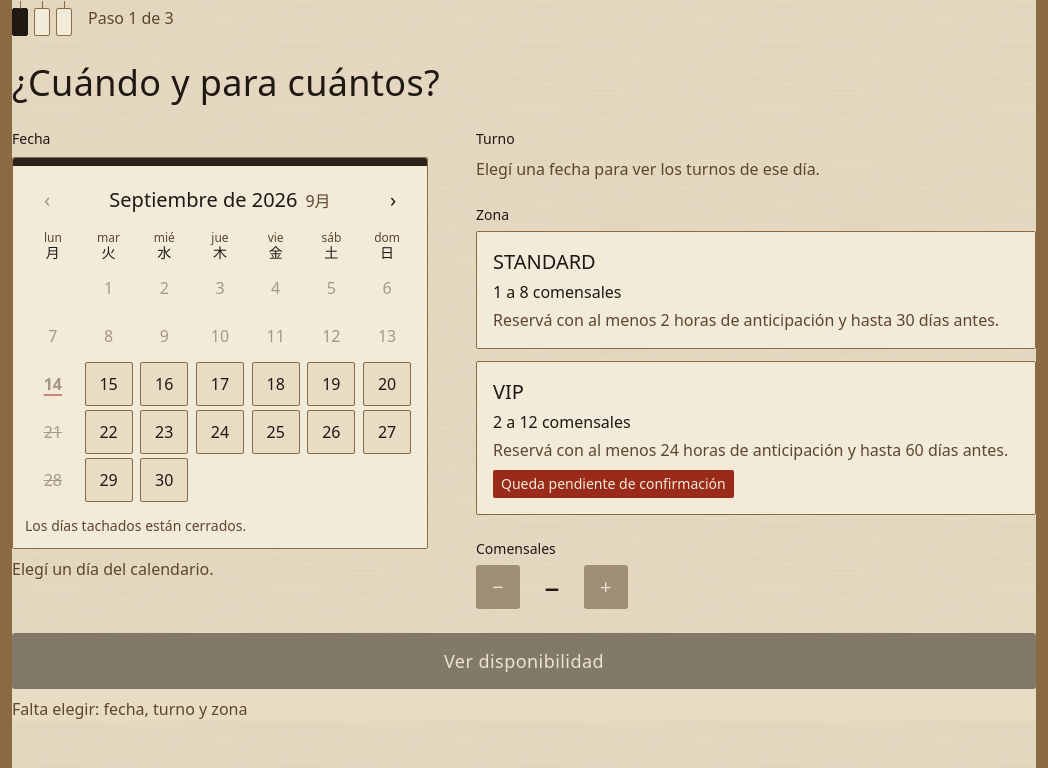
Test: FormularioSeleccion - fecha › se puede cambiar de mes y volver
Click the button named "Mes siguiente". click: {"x": 393, "y": 200}
box: [371,178,415,222]
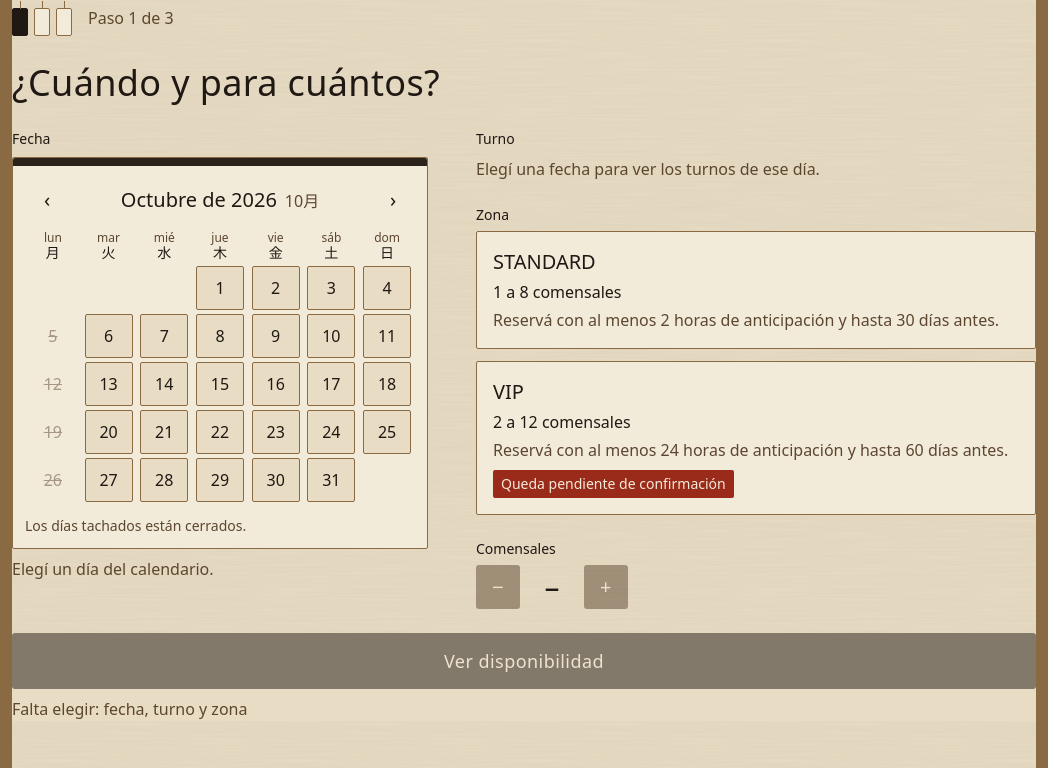
Expected: the text "octubre de 2026" is shown, [121,186,277,214]
Click the button named "Mes anterior". click: {"x": 47, "y": 200}
box: [25,178,69,222]
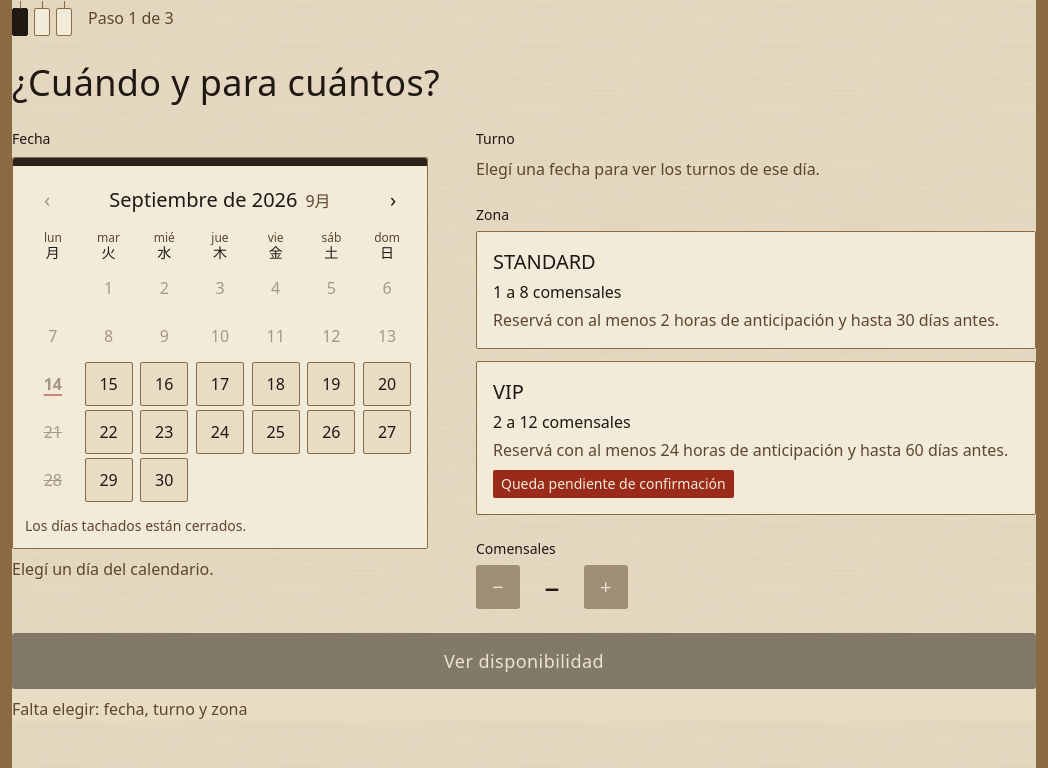
Expected: the text "septiembre de 2026" is shown, [109,186,298,214]
